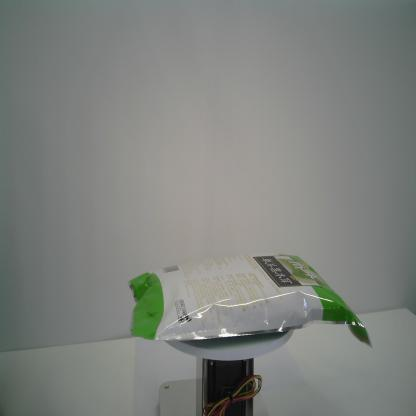Dried Food: (126, 250, 375, 352)
